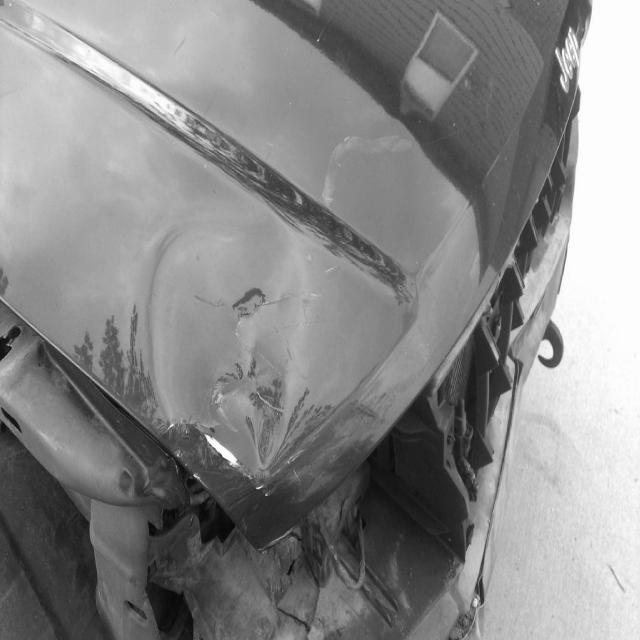crush: (0, 84, 581, 640)
